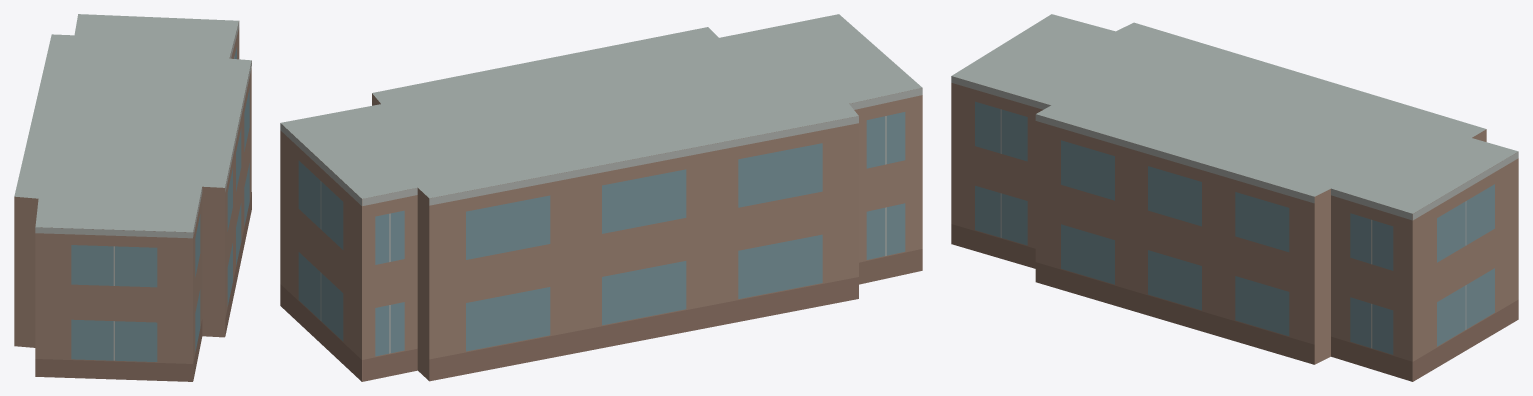
Rendered from survey-upis-32609179.glb.
3 renders of one model, left to right at view 1: azimuth 30°, elevation 25°; view 2: azimuth 150°, elevation 25°; view 3: azimuth 270°, elevation 25°, orthographic. The views are drawn at different scales.
Parts seen in each view (by area): view 1: survey-upis-32609179.tmp; view 2: survey-upis-32609179.tmp; view 3: survey-upis-32609179.tmp.
Part boxes in pixels (x1=…): survey-upis-32609179.tmp: x1=14, y1=14, x2=251, y2=381; survey-upis-32609179.tmp: x1=280, y1=14, x2=922, y2=381; survey-upis-32609179.tmp: x1=951, y1=14, x2=1518, y2=381.
Bounding box in the file's own units: 15.57 × 6.1 × 18.67.
